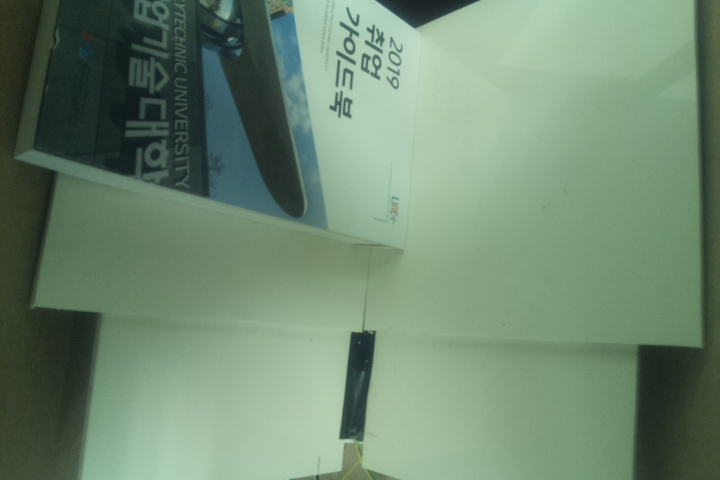book: (15, 1, 427, 252)
